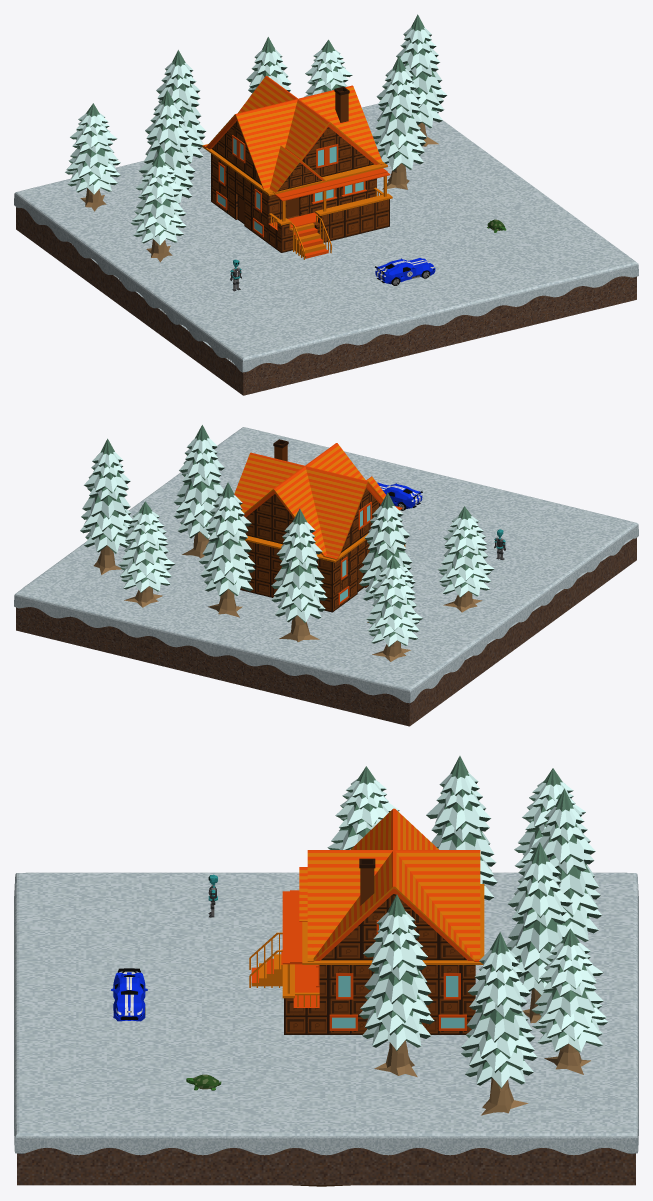
3 views of the same model, one above another, from view 1: azimuth 30°, elevation 25°; view 2: azimuth 150°, elevation 25°; view 3: azimuth 270°, elevation 25° (orthographic). The views are drawn at different scales.
Visible parts, largest first — view 1: Cube.003, Cube, VEHICLES_RACING_CAR; view 2: Cube.003, Cube, VEHICLES_RACING_CAR; view 3: Cube.003, Cube, VEHICLES_RACING_CAR.
Boxes of the visible parts, <box> form: Cube.003: <box>14,14,638,395</box>; Cube: <box>202,76,392,259</box>; VEHICLES_RACING_CAR: <box>375,258,435,285</box>; Cube.003: <box>14,425,638,726</box>; Cube: <box>234,439,405,612</box>; VEHICLES_RACING_CAR: <box>377,482,422,510</box>; Cube.003: <box>14,756,638,1185</box>; Cube: <box>249,808,484,1034</box>; VEHICLES_RACING_CAR: <box>111,968,147,1021</box>.
Size of the model in its own units: 4040 by 1758 by 4040.
Materials: 37 (4 with a texture image).
